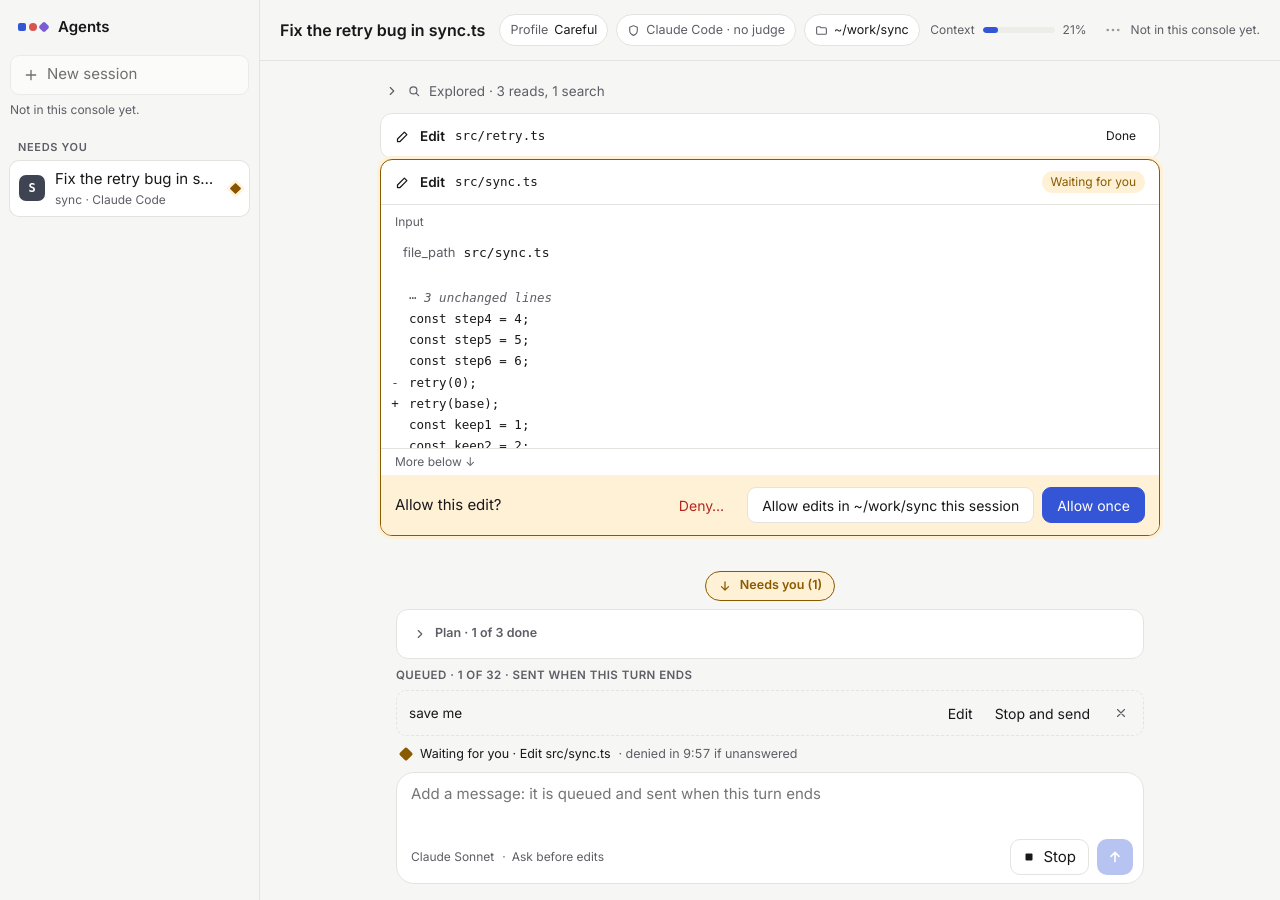
Scenario: S36 r3 › S152_keeps_a_taken_input_if_the_turn_ends_during_unqueue
The width and height of the screenshot is (1280, 900).
(page scrolled)
Expected: the button "Needs you (1)" is shown, [705,571,835,601]
Click the button with aria-label "Stop and send queued message 1". click: (1042, 713)
box: [986,695,1099,731]
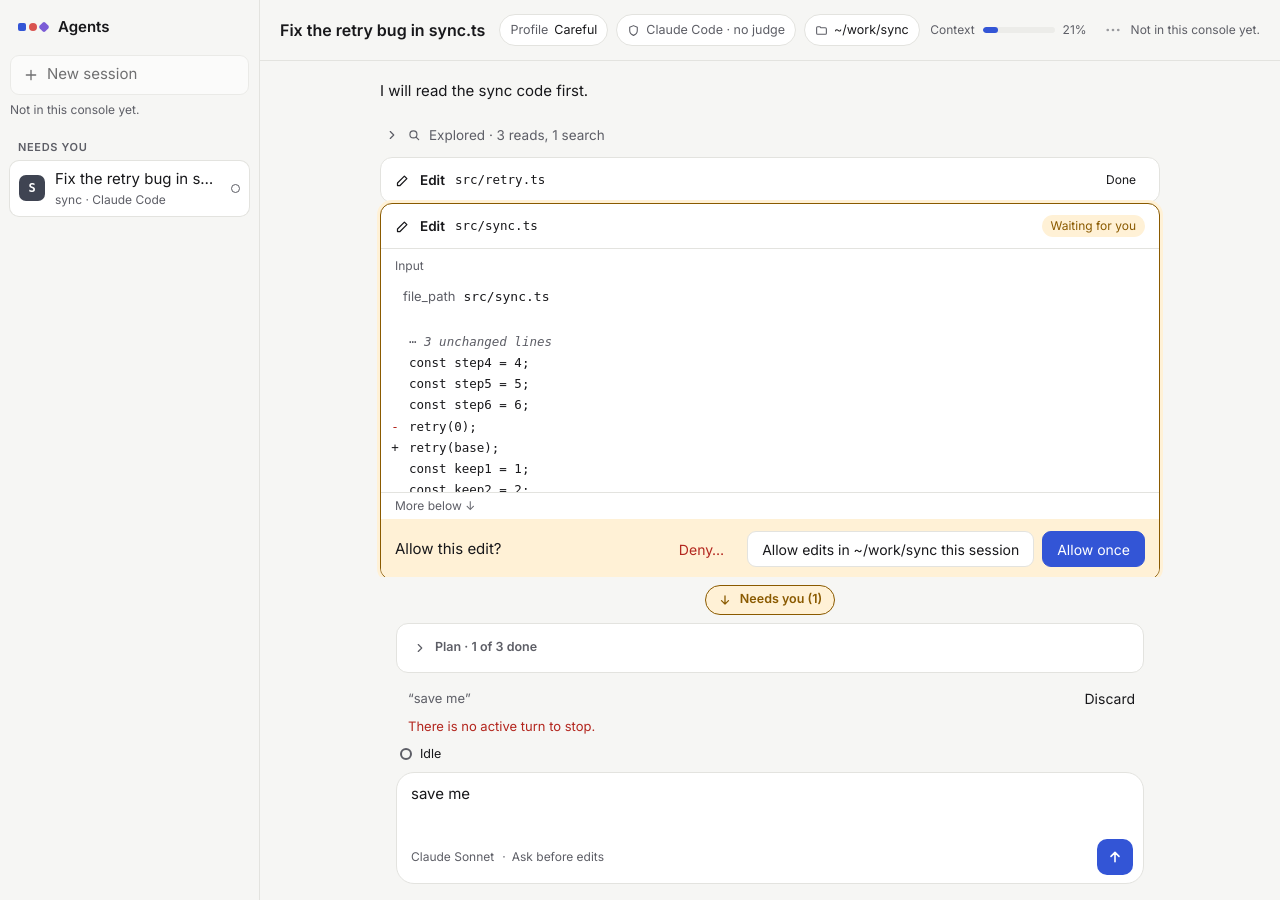
Now the button named "Send message" is shown, box [1097,839,1133,875]
Now the message "There is no active turn to stop." is shown, box [408,718,595,734]
Now the text box named "Message" holds "save me", box [411,783,1133,831]
